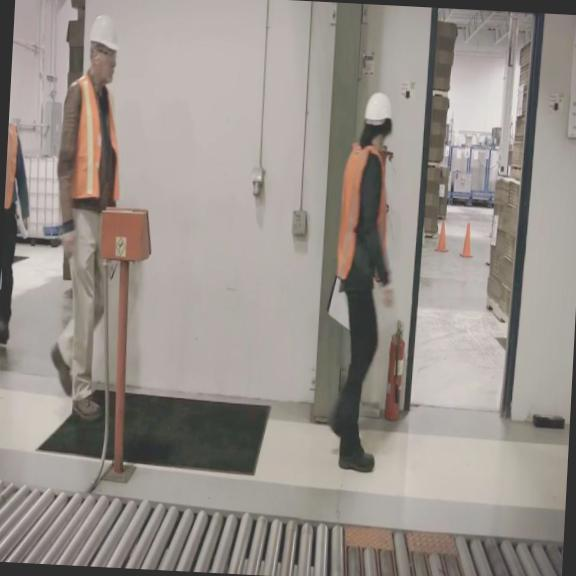safety_vest: (332, 137, 400, 282), (67, 76, 126, 204), (4, 117, 18, 210)
